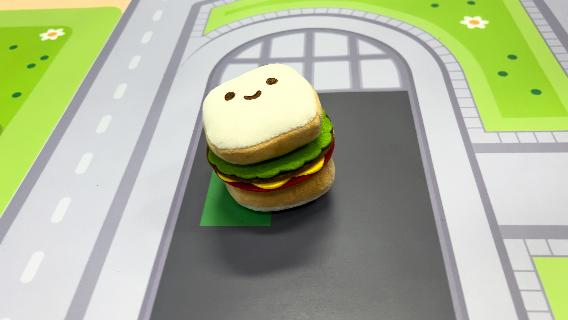sandwich: (201, 61, 339, 213)
